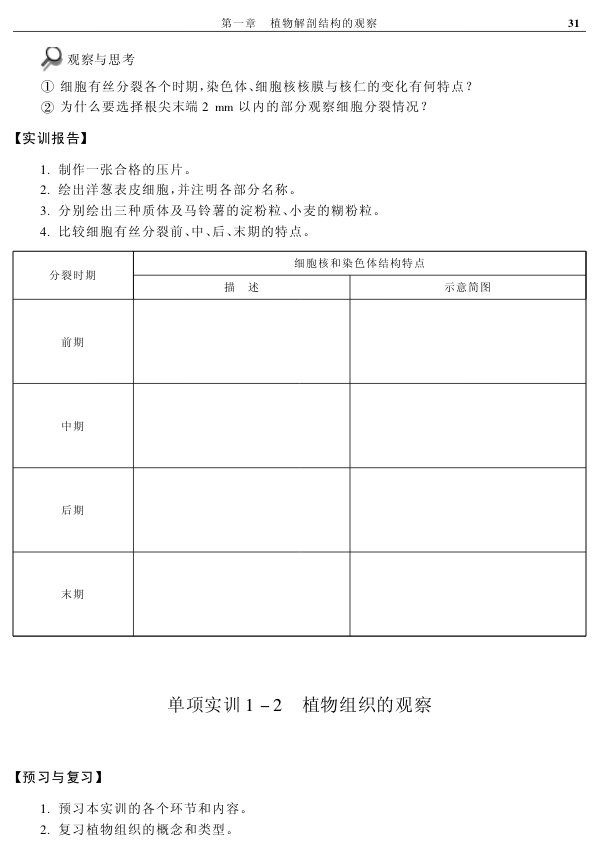table: (11, 250, 586, 637)
